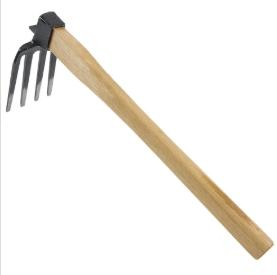HOUE: (2, 0, 277, 275)
